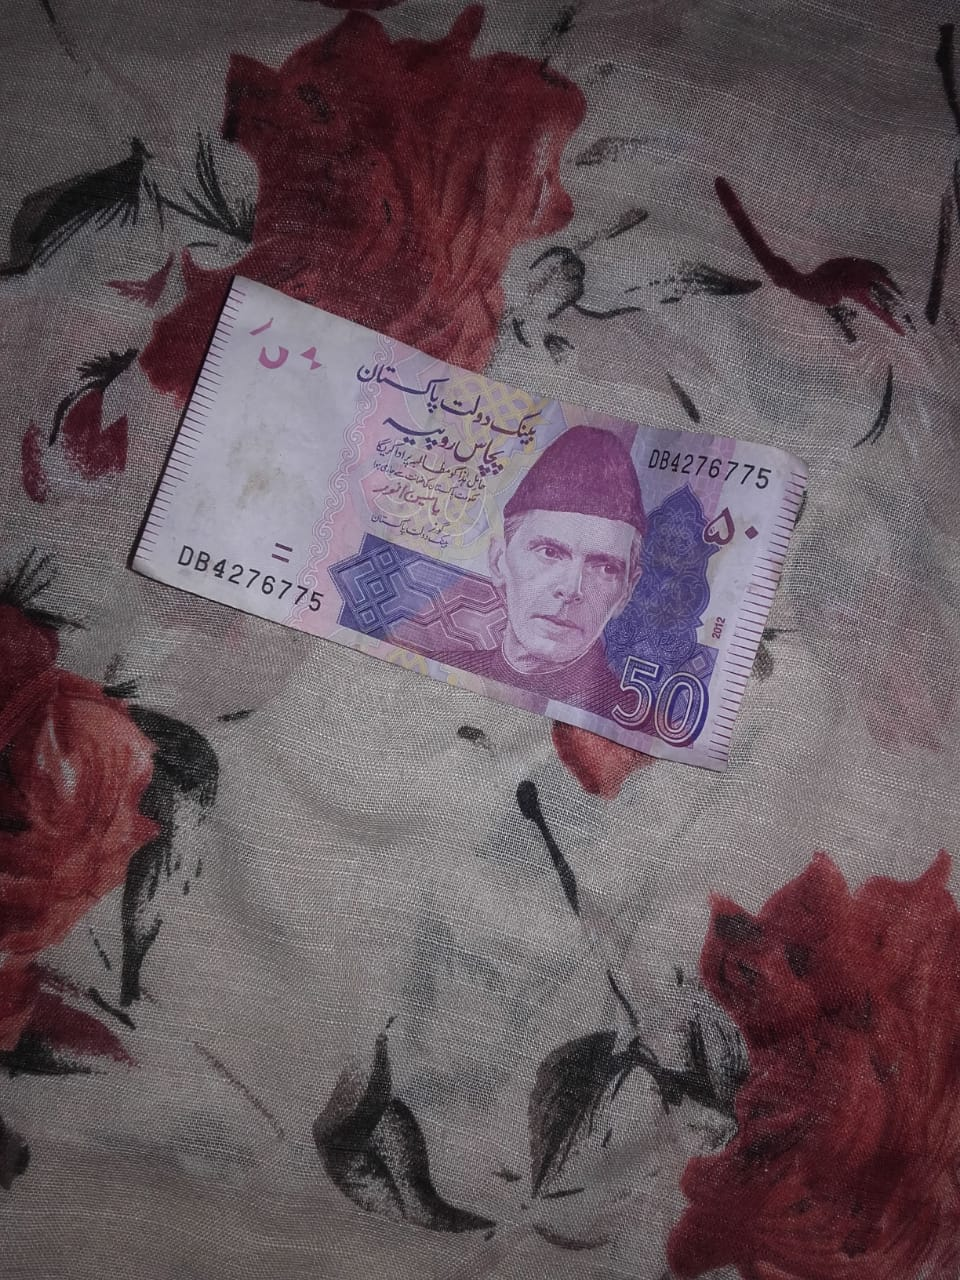50 rupee: (121, 267, 796, 793)
